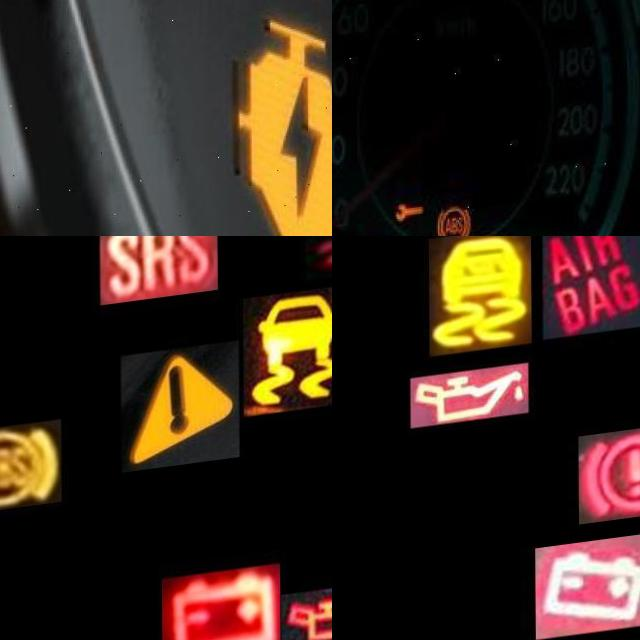Central Warning lamp: (120, 353, 239, 483)
Engine cooling system: (305, 236, 332, 295)
